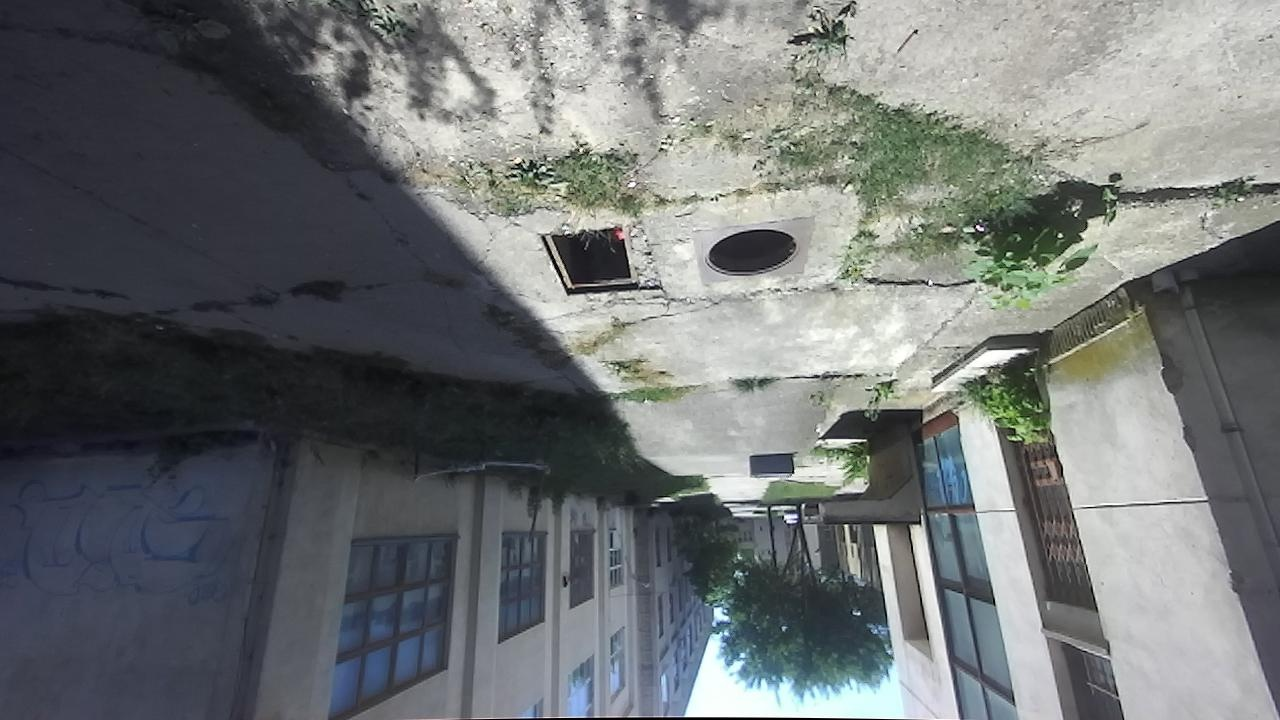drain: (532, 229, 641, 299), (697, 227, 805, 278)
